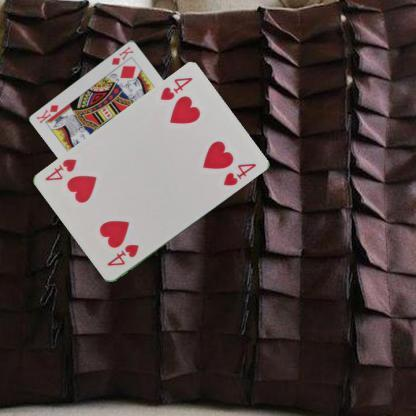4h: (157, 74, 194, 102), (104, 242, 140, 269)
Kd: (110, 43, 134, 66)
